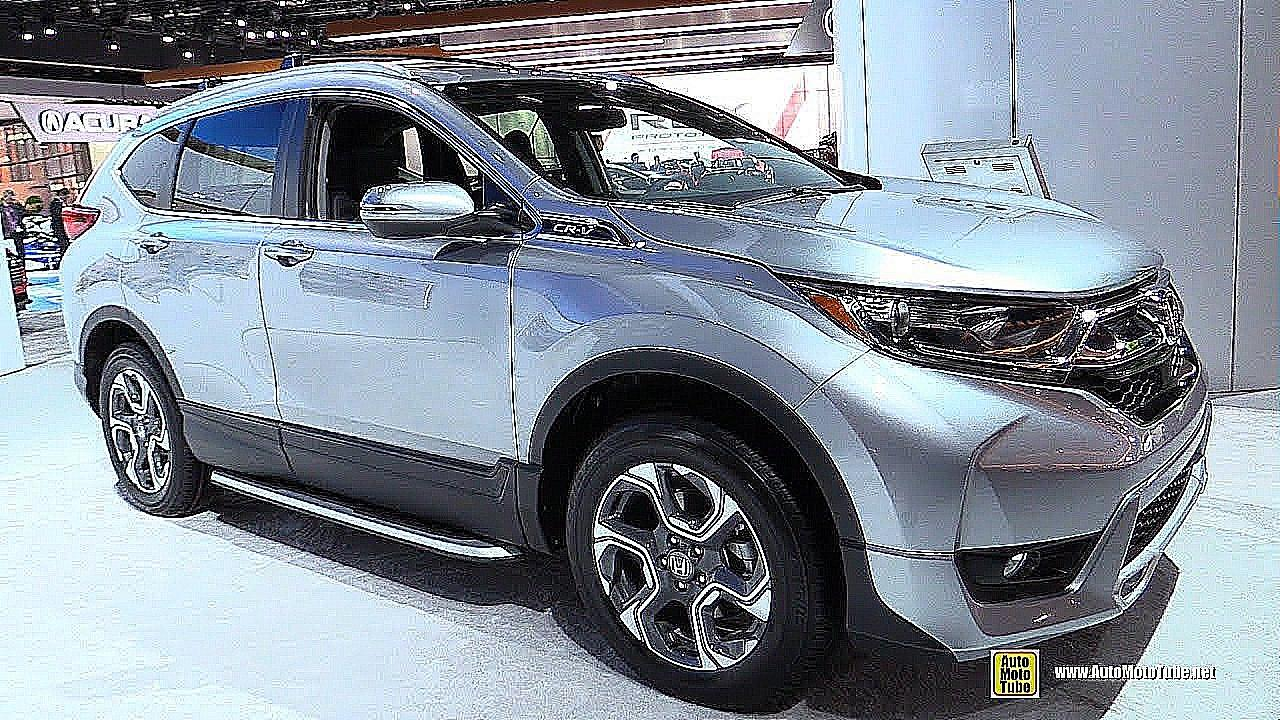Car hood: (599, 171, 1164, 297)
Driver-s door - -F-R-: (257, 51, 546, 569)
Fender - -F-R-: (507, 175, 874, 589)
Fender - -R-R-: (56, 106, 176, 367)
Front bumper: (788, 319, 1231, 676)
Headlight - -R-: (775, 272, 1095, 385)
Passenger-s door - -R-R-: (115, 51, 303, 533)
Rear bumper: (60, 339, 103, 423)
Rear light - -R-: (57, 202, 101, 243)
Side bumper - -R-: (166, 401, 551, 578)
Side mirror - -R-: (357, 179, 527, 254)
